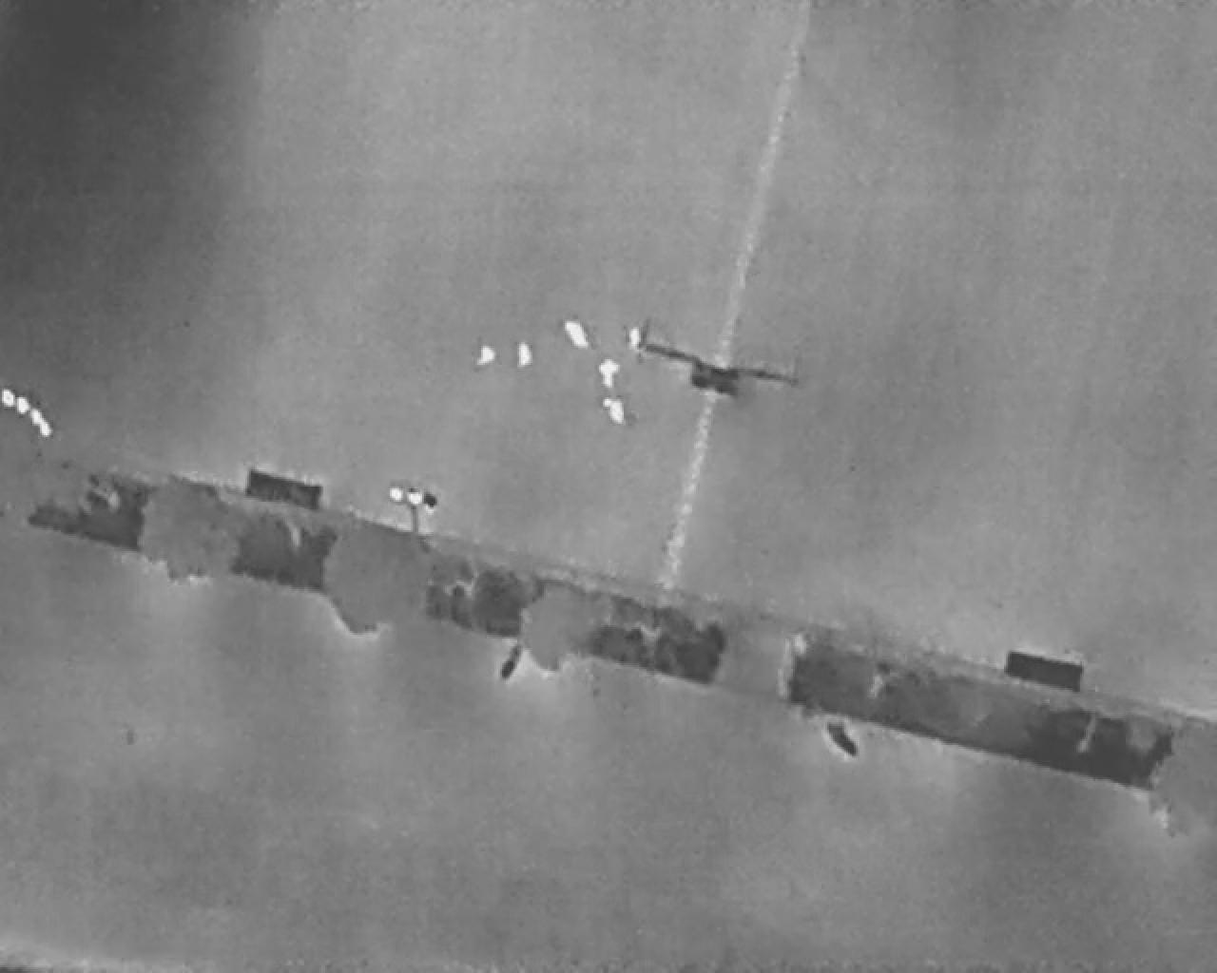person: (564, 316, 590, 353), (600, 358, 619, 389), (611, 396, 627, 427), (476, 347, 497, 368), (518, 341, 533, 370), (627, 326, 642, 353)
